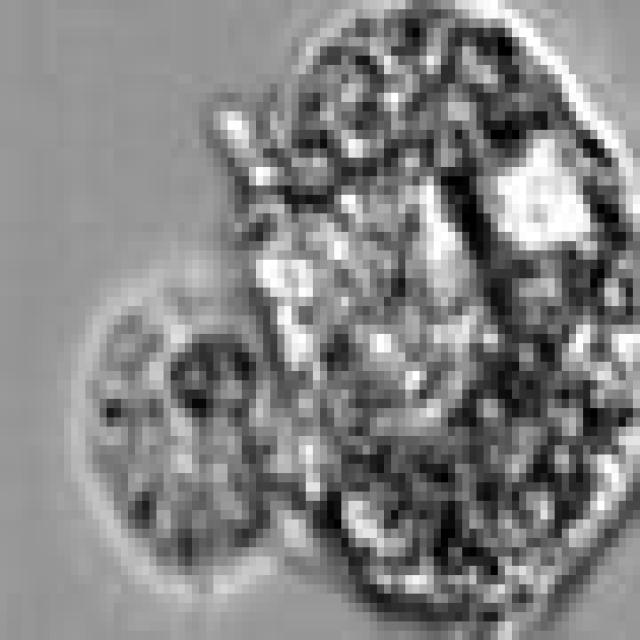Cancer Cell: (242, 9, 640, 640)
WBC: (85, 269, 313, 594)
